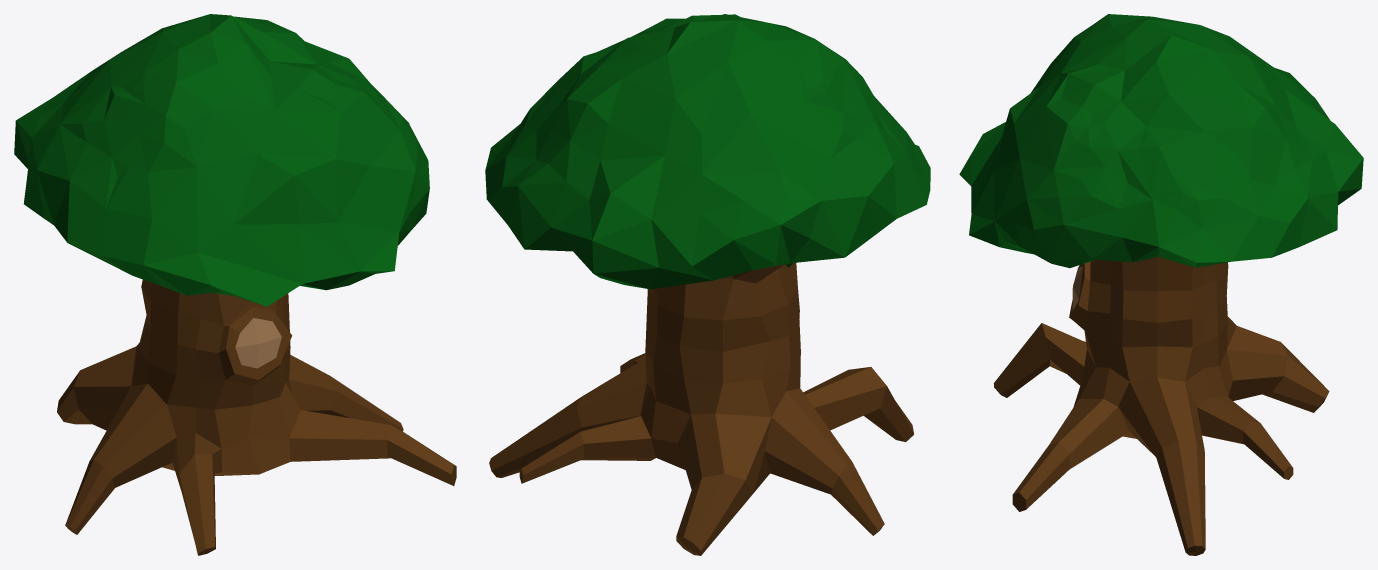
The model's file is bigtree.glb.
3 renders of one model, left to right at view 1: azimuth 30°, elevation 25°; view 2: azimuth 150°, elevation 25°; view 3: azimuth 270°, elevation 25°, orthographic. The views are drawn at different scales.
Parts seen in each view (by area): view 1: Cylinder; view 2: Cylinder; view 3: Cylinder.
Boxes of the visible parts, <box> form: Cylinder: <box>14,14,456,555</box>; Cylinder: <box>485,14,930,555</box>; Cylinder: <box>959,14,1363,555</box>.
Bounding box in the file's own units: 2885 × 3471 × 2868.
